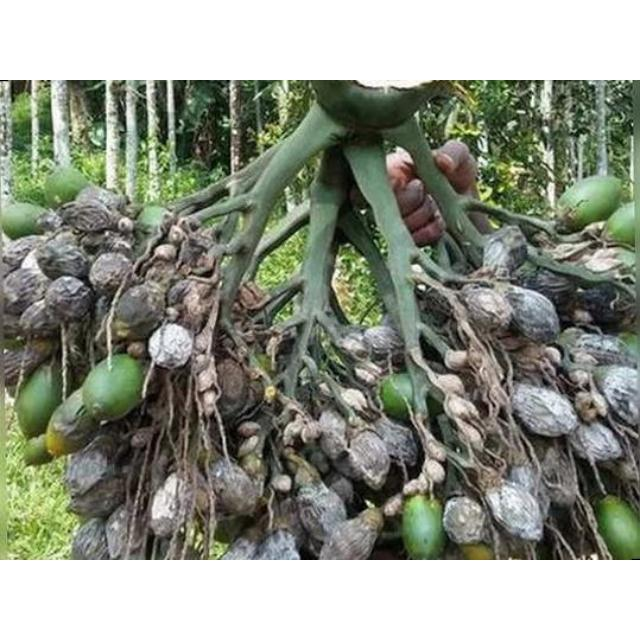damaged: (62, 436, 128, 516), (57, 187, 126, 245), (14, 360, 64, 440), (556, 174, 624, 230), (484, 481, 544, 544), (293, 481, 347, 547), (46, 389, 98, 456), (513, 385, 579, 437), (321, 506, 384, 560), (208, 458, 262, 518), (340, 428, 392, 488), (109, 286, 163, 342), (379, 374, 441, 422), (571, 282, 635, 328), (215, 360, 263, 420), (594, 366, 640, 428), (148, 472, 192, 536), (505, 288, 559, 340), (2, 266, 50, 324), (538, 442, 578, 508), (566, 419, 622, 466), (402, 496, 444, 558), (42, 276, 94, 324), (460, 284, 510, 332), (34, 238, 88, 282), (568, 332, 634, 368), (373, 418, 419, 468), (442, 496, 488, 546), (2, 341, 52, 387), (522, 268, 578, 308), (481, 226, 527, 274), (434, 140, 476, 192), (146, 323, 192, 369), (88, 252, 136, 296), (43, 166, 91, 208), (82, 424, 126, 466), (416, 284, 460, 326), (544, 507, 578, 558), (316, 408, 350, 458), (276, 496, 310, 546), (167, 279, 207, 321), (104, 509, 138, 558), (268, 331, 300, 381), (72, 517, 110, 559), (360, 326, 404, 362), (317, 146, 351, 192), (250, 530, 302, 560), (1, 236, 46, 270), (176, 231, 214, 271), (373, 467, 409, 508), (336, 328, 374, 366), (1, 257, 16, 347), (215, 532, 262, 560), (386, 149, 418, 189), (506, 464, 540, 501), (75, 184, 118, 213), (144, 254, 180, 288), (403, 198, 439, 232), (394, 178, 426, 216), (578, 248, 624, 274), (92, 294, 115, 344), (444, 395, 480, 425), (212, 516, 248, 546), (236, 282, 268, 314), (411, 216, 445, 246), (61, 386, 89, 422), (1, 308, 28, 344), (610, 454, 640, 486), (136, 205, 170, 233), (292, 379, 318, 415), (67, 350, 89, 390), (442, 459, 464, 499), (326, 476, 354, 506), (238, 450, 266, 480), (595, 468, 623, 498), (466, 207, 494, 237), (557, 327, 589, 353), (339, 388, 368, 416), (306, 447, 332, 478), (110, 316, 138, 344), (527, 435, 553, 465), (456, 420, 484, 446), (26, 336, 54, 362), (282, 418, 306, 448), (354, 361, 384, 385), (434, 374, 466, 396), (36, 209, 62, 235), (130, 426, 158, 450), (194, 442, 218, 470), (349, 184, 371, 214), (424, 438, 448, 464), (252, 350, 274, 378), (434, 150, 456, 178), (200, 388, 220, 418), (238, 435, 262, 459), (588, 391, 608, 419), (197, 367, 216, 395), (424, 460, 446, 484), (152, 243, 178, 263), (444, 350, 470, 370), (194, 488, 212, 516), (270, 474, 294, 494), (402, 478, 426, 498), (568, 368, 590, 388), (154, 536, 172, 560), (168, 225, 188, 245), (543, 346, 563, 366), (74, 514, 96, 530)
